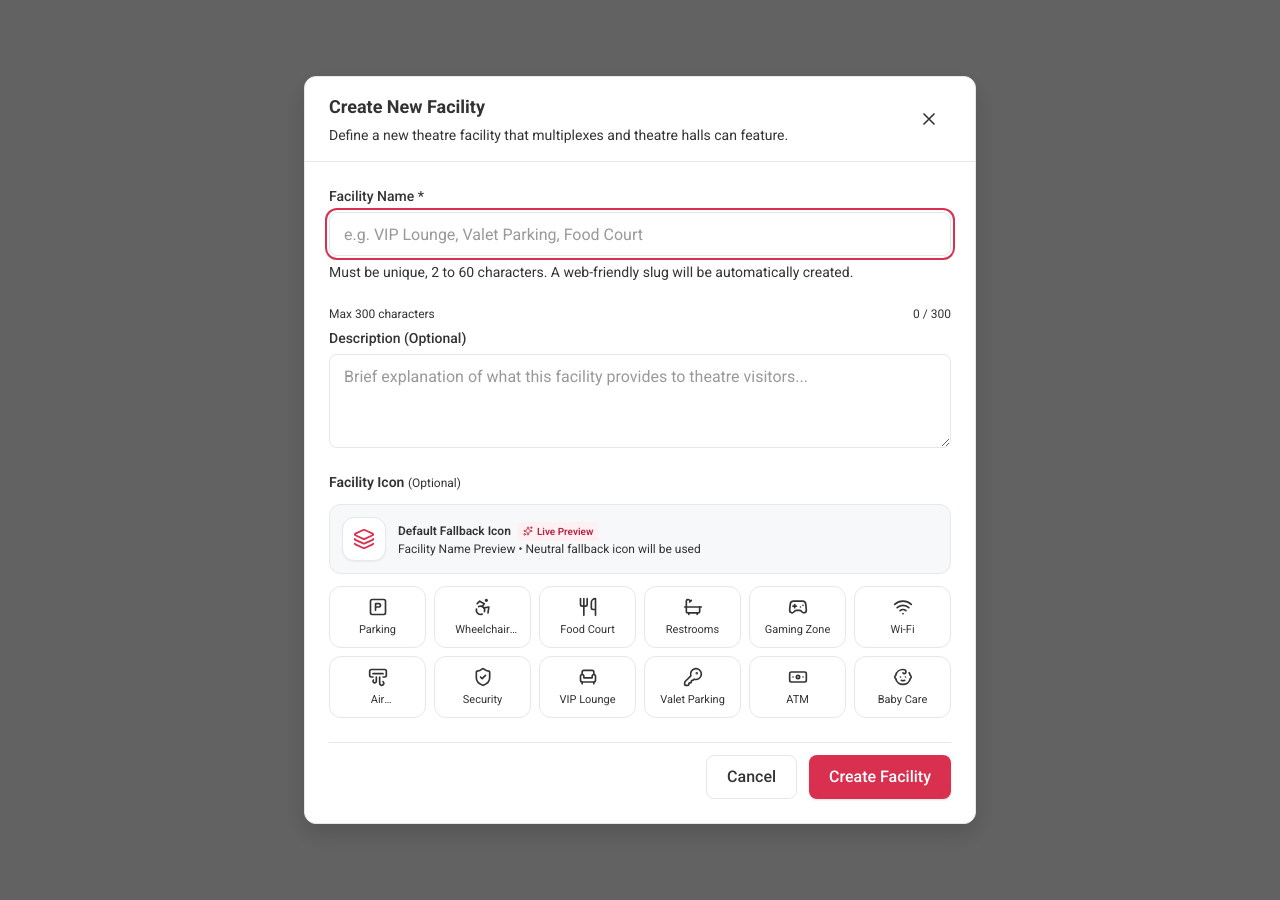
it: FacilityModal (React Hook Form + Zod + FormErrorBanner) › renders general error banner when backend returns an unmapped server error
Step 1. Type "VIP Lounge" into the field labelled "Facility Name *" → (640, 234), box [329,212,951,256]
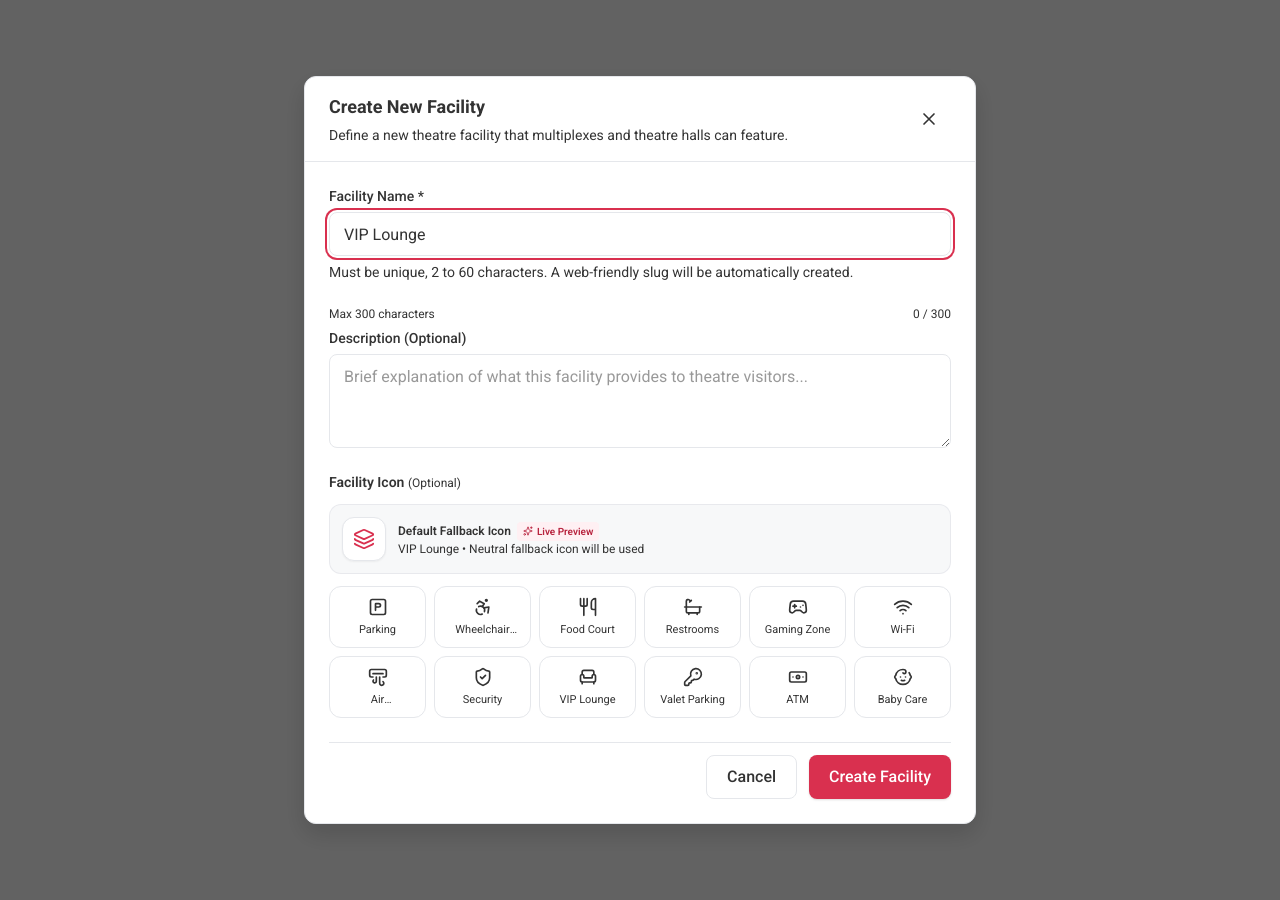
Step 2. Click the button "Create Facility" → (880, 777), box [809,755,951,799]
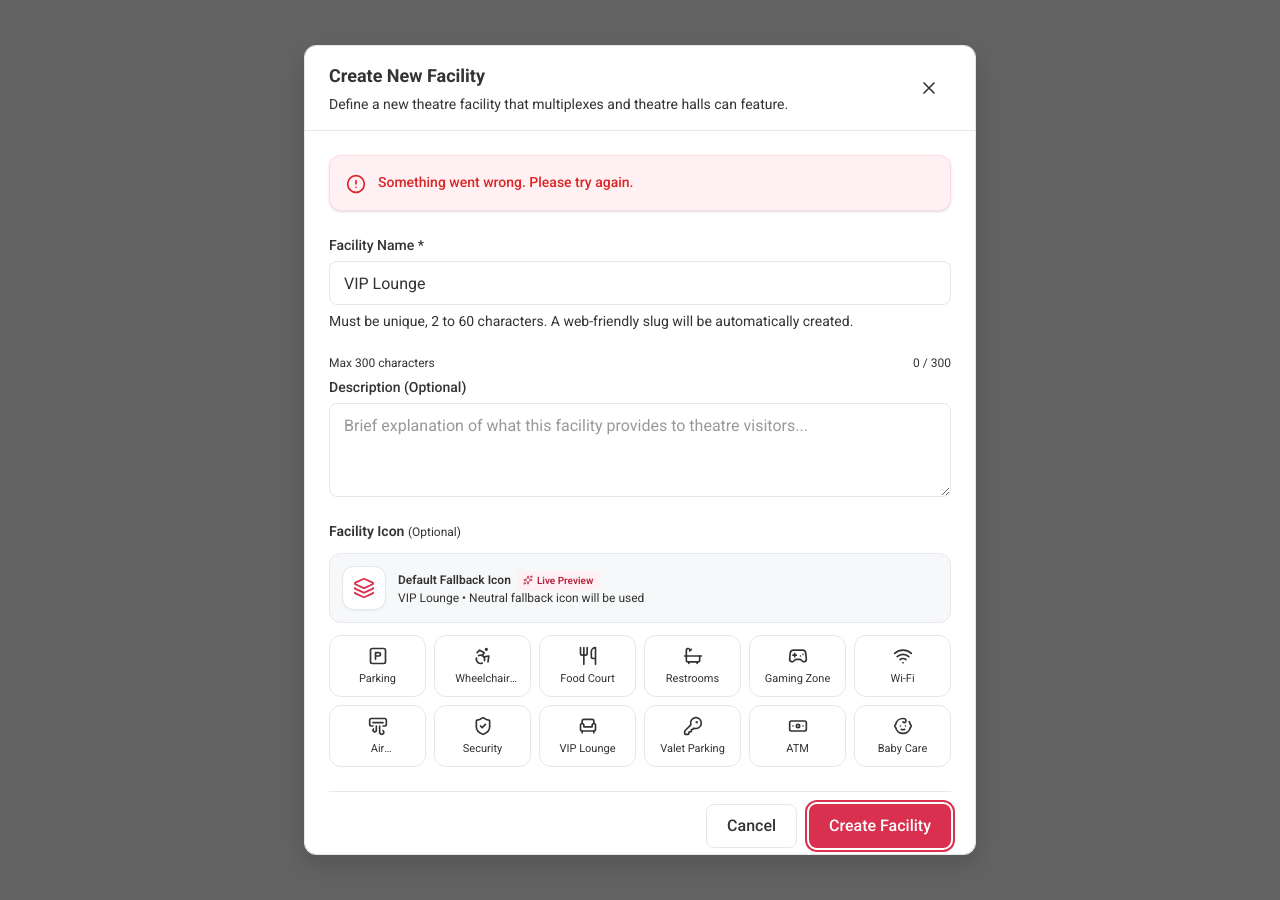
Expected: the message "Something went wrong. Please try again." is shown, [329,155,951,211]
Expected: the message with test id "form-error-banner" reads "Something went wrong. Please try again.", [378,174,634,190]
